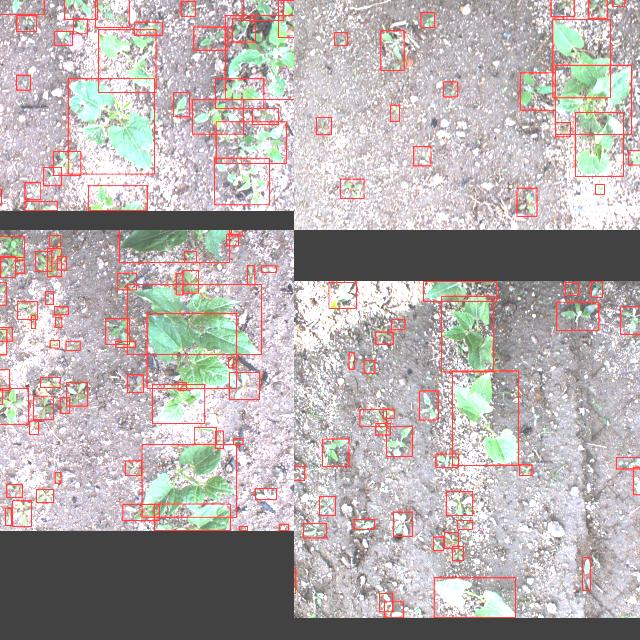crop: (126, 284, 262, 354), (67, 78, 153, 174), (142, 444, 236, 518), (146, 314, 236, 388), (452, 370, 518, 466), (224, 16, 294, 100), (554, 65, 632, 135), (552, 18, 610, 98), (441, 296, 493, 372), (98, 29, 156, 92), (118, 230, 229, 262), (434, 578, 514, 618), (574, 112, 622, 176), (152, 384, 204, 424), (153, 504, 229, 530), (422, 281, 496, 301)
weed: (215, 122, 285, 164), (214, 158, 268, 206), (192, 100, 242, 134), (214, 79, 264, 109), (88, 186, 146, 210), (520, 72, 554, 110), (556, 302, 598, 331), (0, 388, 28, 424), (381, 31, 404, 71), (95, 0, 129, 27), (229, 372, 259, 400), (243, 0, 283, 20), (193, 26, 227, 49), (386, 426, 412, 456), (328, 282, 356, 308), (322, 438, 348, 466), (52, 151, 80, 175), (122, 504, 158, 522), (63, 0, 97, 19), (277, 0, 294, 37), (105, 318, 129, 344), (446, 492, 472, 516), (0, 0, 44, 14), (418, 390, 438, 420), (516, 188, 536, 216), (620, 306, 640, 334), (232, 18, 254, 42), (0, 236, 24, 258), (339, 179, 363, 199), (66, 382, 86, 406), (33, 396, 53, 420), (392, 512, 412, 536), (358, 409, 386, 426), (12, 501, 30, 527), (252, 108, 278, 124), (47, 248, 61, 276), (550, 0, 573, 17), (173, 92, 189, 116), (17, 301, 37, 319), (116, 272, 136, 290), (194, 428, 216, 444), (182, 270, 198, 292), (414, 146, 431, 166), (134, 22, 162, 34), (434, 454, 458, 468), (302, 524, 326, 538), (43, 168, 61, 186), (16, 15, 36, 31), (35, 251, 51, 271), (319, 496, 335, 516), (588, 0, 606, 17), (383, 602, 402, 618), (615, 457, 640, 469), (0, 255, 14, 276), (24, 182, 40, 200), (127, 374, 143, 392), (72, 18, 88, 34), (24, 202, 56, 210), (554, 122, 570, 138), (124, 460, 140, 476), (582, 558, 590, 590), (54, 31, 72, 45), (378, 594, 392, 612), (254, 488, 276, 499), (16, 74, 30, 90), (420, 12, 434, 28), (316, 118, 330, 134), (442, 82, 458, 96), (6, 484, 22, 498), (632, 467, 640, 495), (444, 532, 458, 548), (352, 519, 373, 529), (40, 377, 60, 387), (180, 2, 194, 16), (333, 32, 347, 46), (36, 490, 52, 502), (374, 423, 390, 435), (376, 332, 392, 344), (590, 281, 602, 297), (628, 150, 640, 165), (0, 369, 8, 390), (564, 282, 578, 294), (246, 265, 254, 285), (115, 340, 135, 348), (59, 397, 69, 413), (456, 520, 472, 530), (175, 273, 182, 295), (0, 327, 11, 341), (389, 105, 398, 121), (184, 250, 196, 262), (215, 431, 223, 449), (226, 233, 238, 245), (519, 464, 531, 476), (65, 341, 79, 351), (56, 256, 66, 270), (28, 421, 38, 435), (452, 546, 462, 560), (433, 537, 443, 551), (294, 466, 304, 480), (49, 234, 60, 246), (364, 361, 374, 374), (14, 260, 24, 272), (392, 319, 404, 329), (0, 282, 5, 305), (54, 306, 68, 314), (382, 408, 393, 418), (5, 508, 11, 526), (594, 185, 604, 195), (260, 266, 276, 272), (45, 292, 53, 304), (348, 353, 354, 369), (49, 340, 59, 348), (612, 0, 624, 6), (54, 472, 60, 483), (177, 382, 185, 390), (278, 525, 288, 531), (233, 439, 243, 445), (55, 317, 61, 327), (230, 230, 241, 235), (30, 316, 34, 328), (228, 357, 232, 368), (239, 526, 247, 530)
